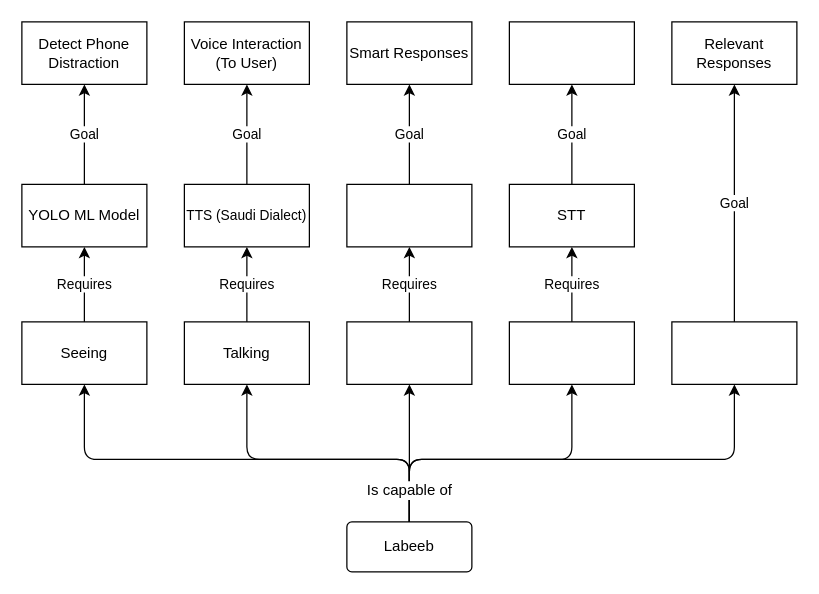
Image size: 819x594. Some labels were removed from this diagram. The shapes that lost their labels are listed below. From the top down, each one's box as (x1, y1, x2, y2) in pixels, then its label:
(508, 21, 634, 84): Voice Interaction (To Labeeb)
(346, 183, 472, 247): LLM Model
(346, 321, 472, 384): Thinking
(508, 321, 634, 384): Listening
(671, 321, 797, 384): RAG
